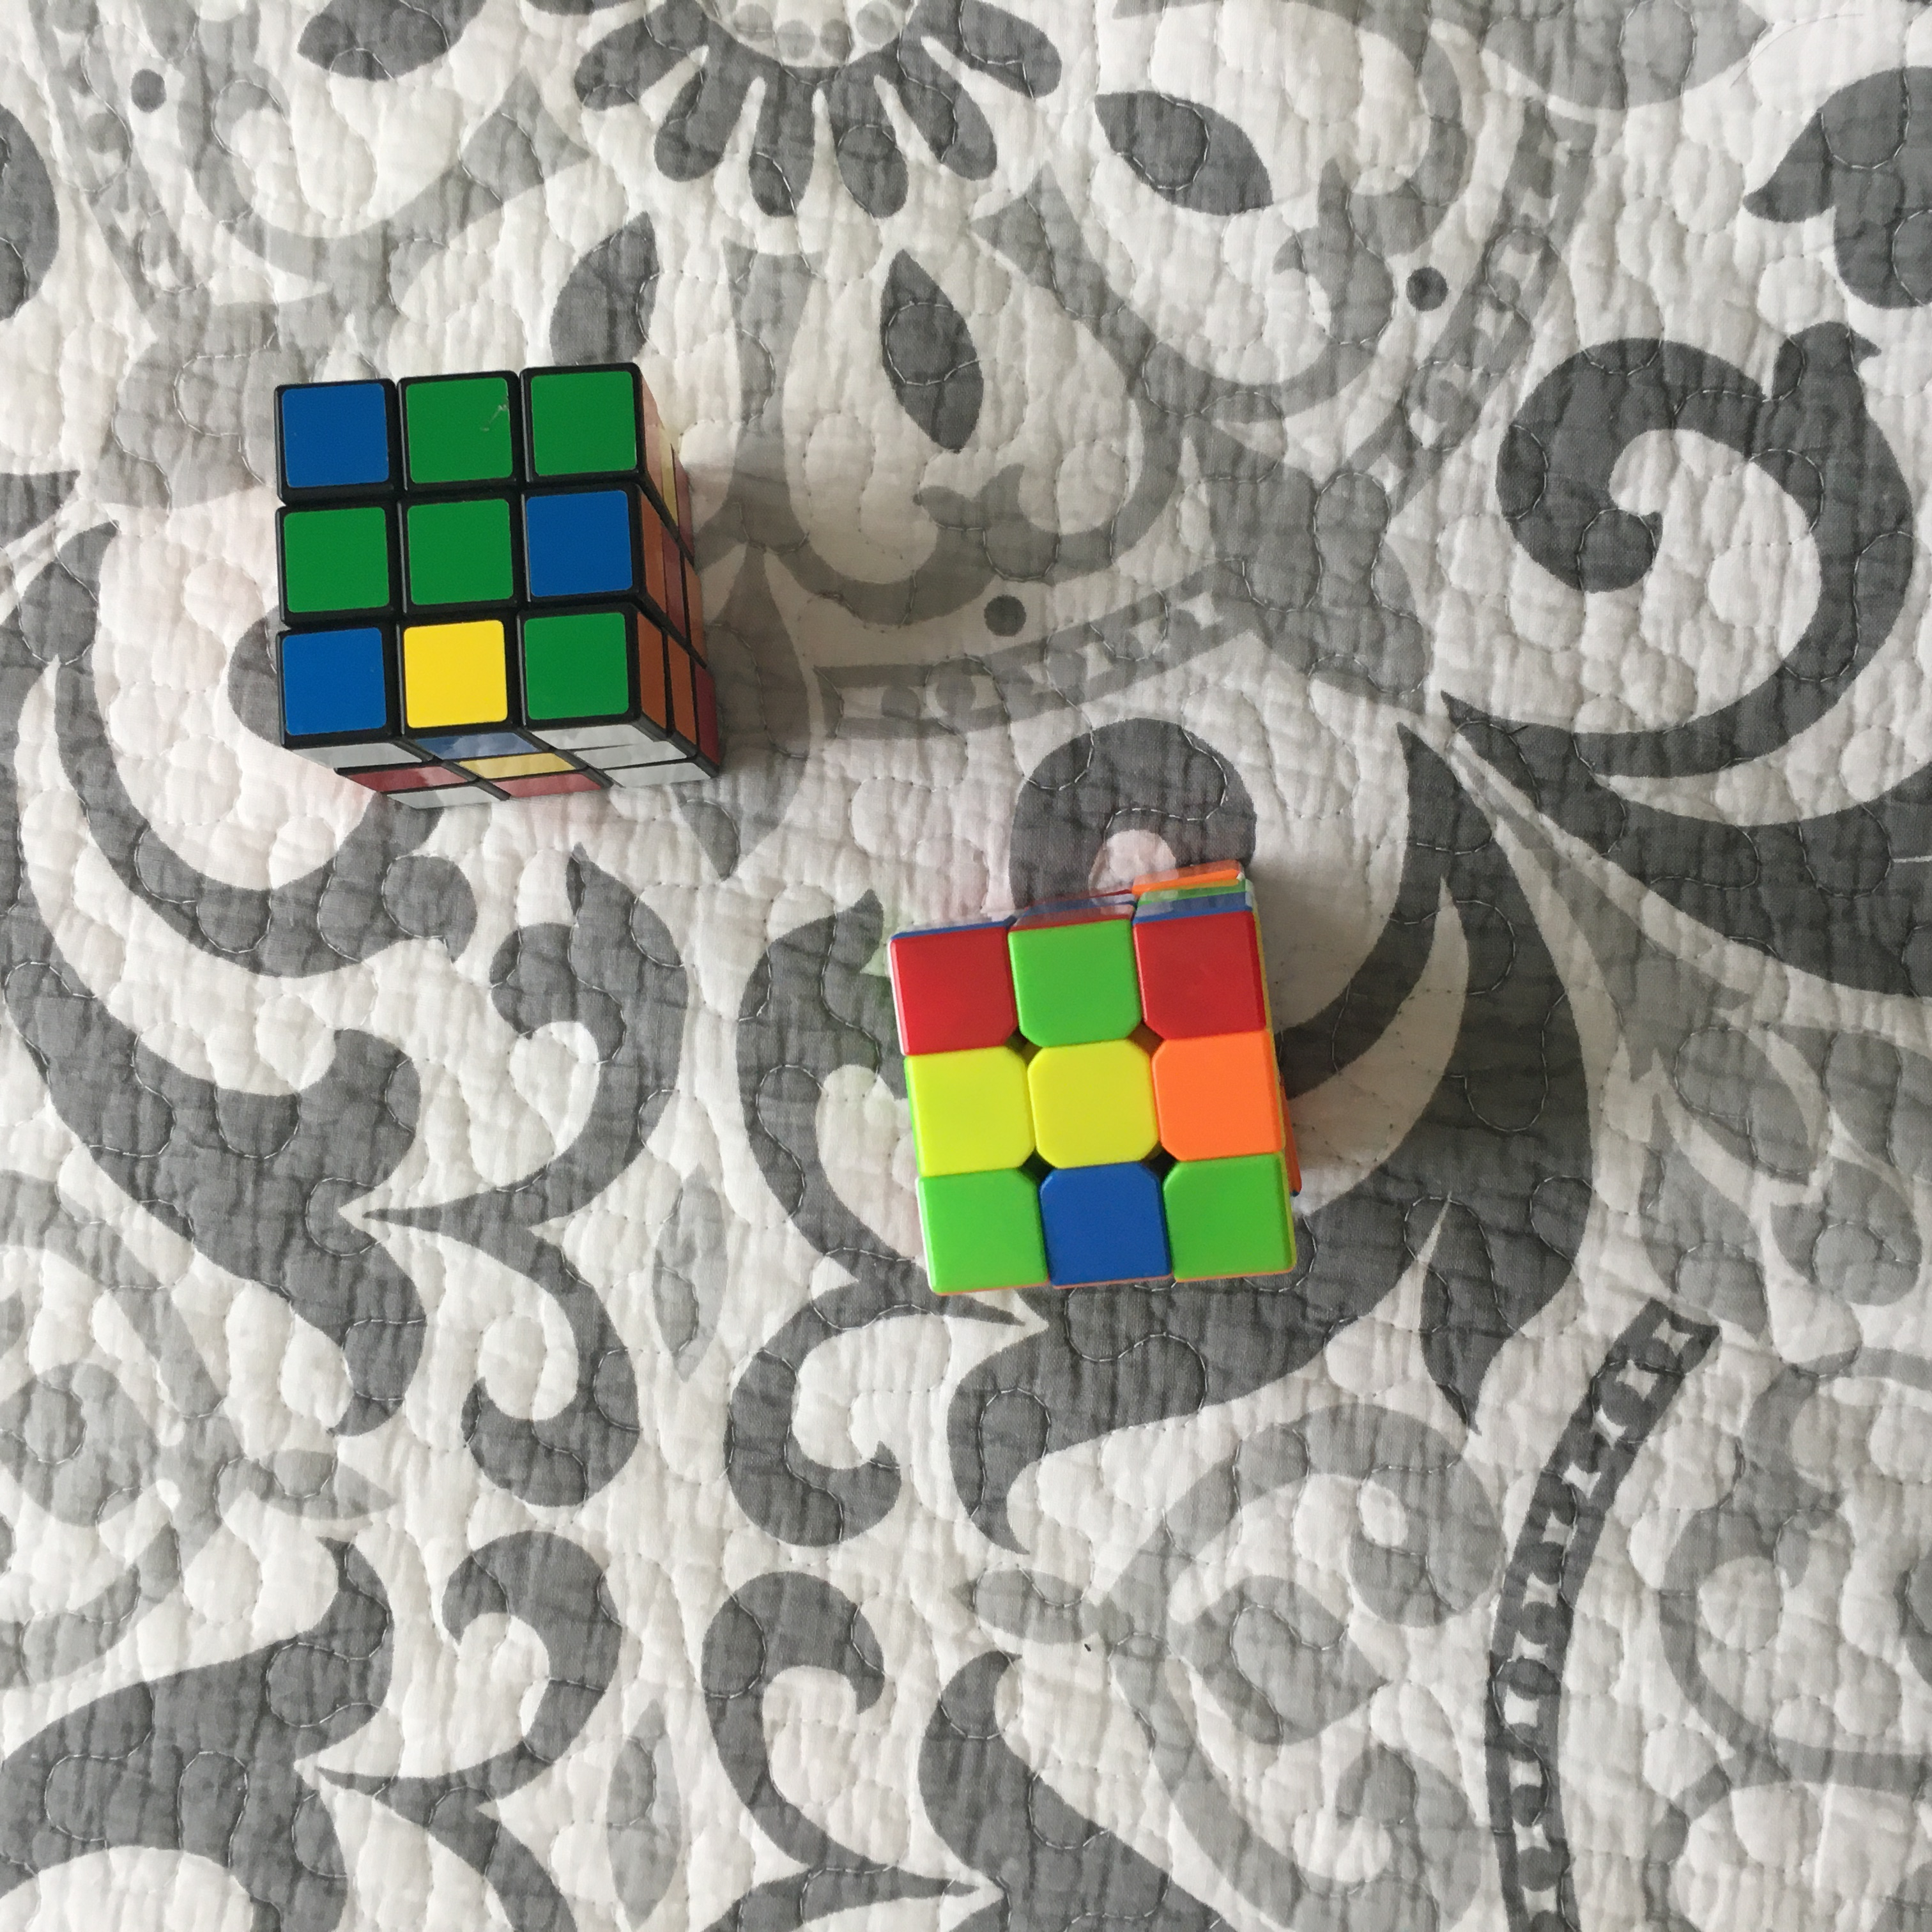face: (891, 910, 1302, 1302), (269, 377, 650, 733)
